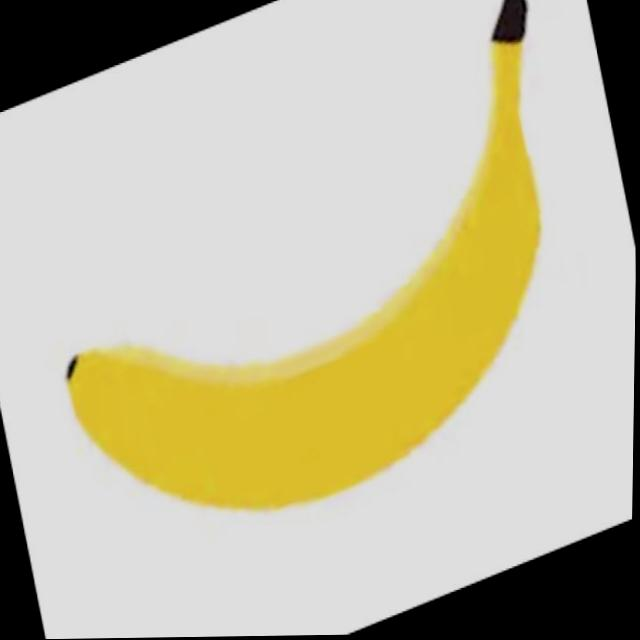Banana: (56, 0, 549, 517)
